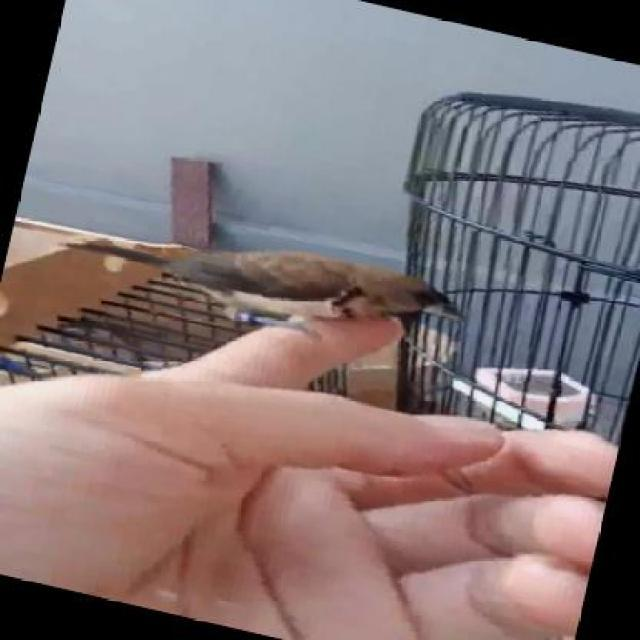Bird: (59, 193, 477, 365)
